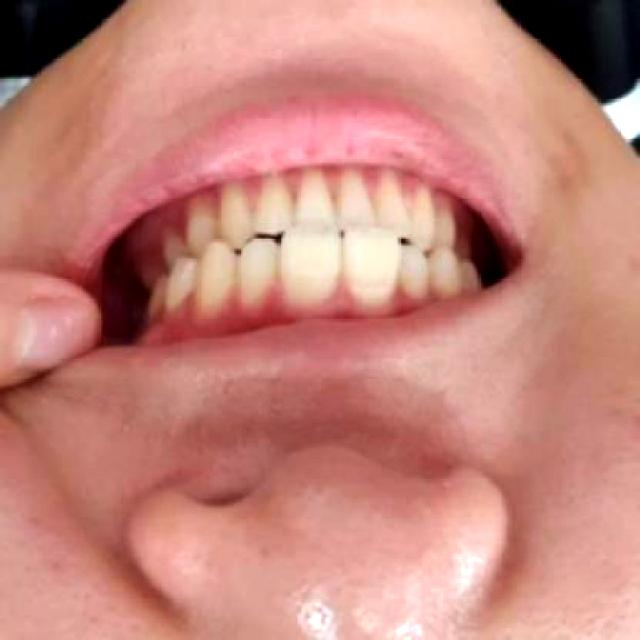Plaque: (163, 289, 195, 314)
